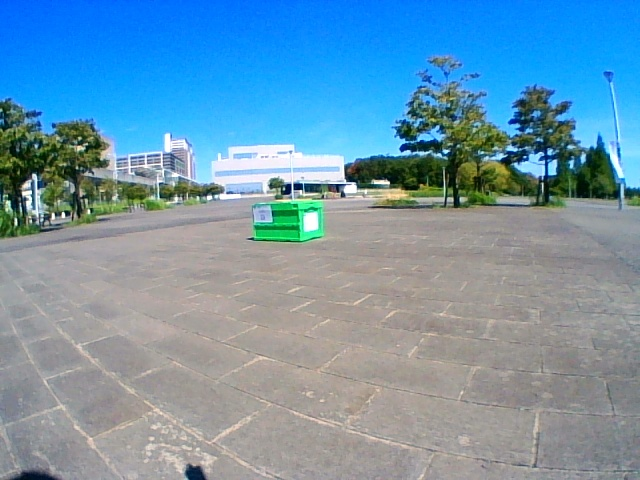green_box: (251, 201, 324, 241)
tag: (254, 206, 270, 222)
